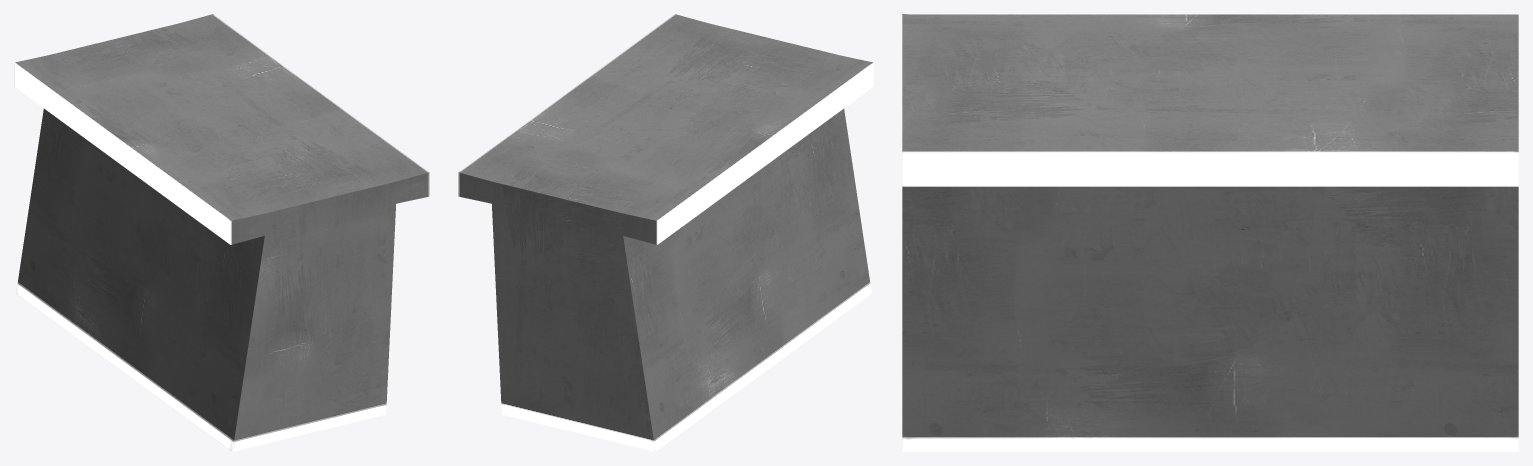
Rendered from MMM_Cafe_Counter_Middle.fbx.
The picture shows the model from 3 angles, left to right: view 1: azimuth 30°, elevation 25°; view 2: azimuth 150°, elevation 25°; view 3: azimuth 270°, elevation 25°; orthographic projection. The views are drawn at different scales.
Visible parts, largest first — view 1: Middle_Counter; view 2: Middle_Counter; view 3: Middle_Counter.
Part boxes in pixels (x1,y1,x2,y2): Middle_Counter: [14, 14, 429, 451]; Middle_Counter: [458, 14, 873, 451]; Middle_Counter: [902, 14, 1518, 451].
Size of the model in its own units: 150 by 166 by 282.
Materials: 1 (1 with a texture image).
